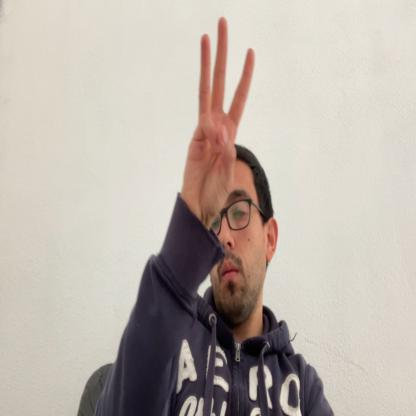W: (184, 15, 254, 219)
